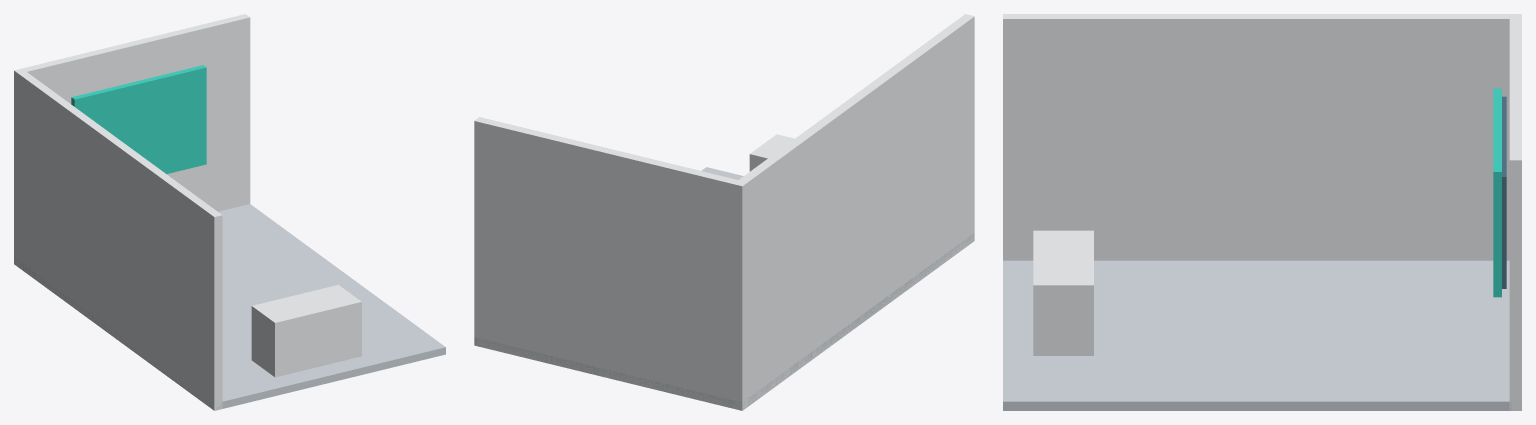
3 views of the same model, side by side, from view 1: azimuth 30°, elevation 25°; view 2: azimuth 150°, elevation 25°; view 3: azimuth 270°, elevation 25° (orthographic). The views are drawn at different scales.
Parts seen in each view (by area): view 1: Exhibition Booth Concept; view 2: Exhibition Booth Concept; view 3: Exhibition Booth Concept.
Part boxes in pixels (x1,y1,x2,y2): Exhibition Booth Concept: (14,14,445,410); Exhibition Booth Concept: (474,14,974,410); Exhibition Booth Concept: (1003,14,1521,410).
Bounding box in the file's own units: 4 × 3.2 × 6.
